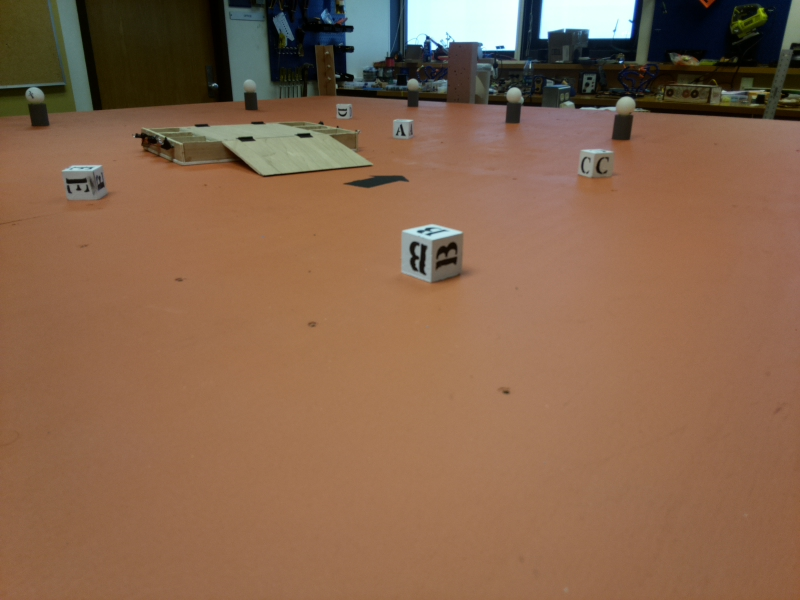blockA: (390, 117, 413, 141)
blockB: (393, 218, 473, 288)
blockC: (577, 145, 614, 182)
blockD: (333, 99, 352, 122)
blockE: (55, 162, 109, 203)
corner: (315, 46, 339, 93)
obstacle: (610, 93, 648, 142), (23, 83, 52, 130), (503, 89, 523, 123), (403, 79, 424, 107), (243, 78, 257, 111)
side: (135, 126, 212, 167)
slope: (223, 139, 374, 170)
start: (343, 169, 414, 197)
